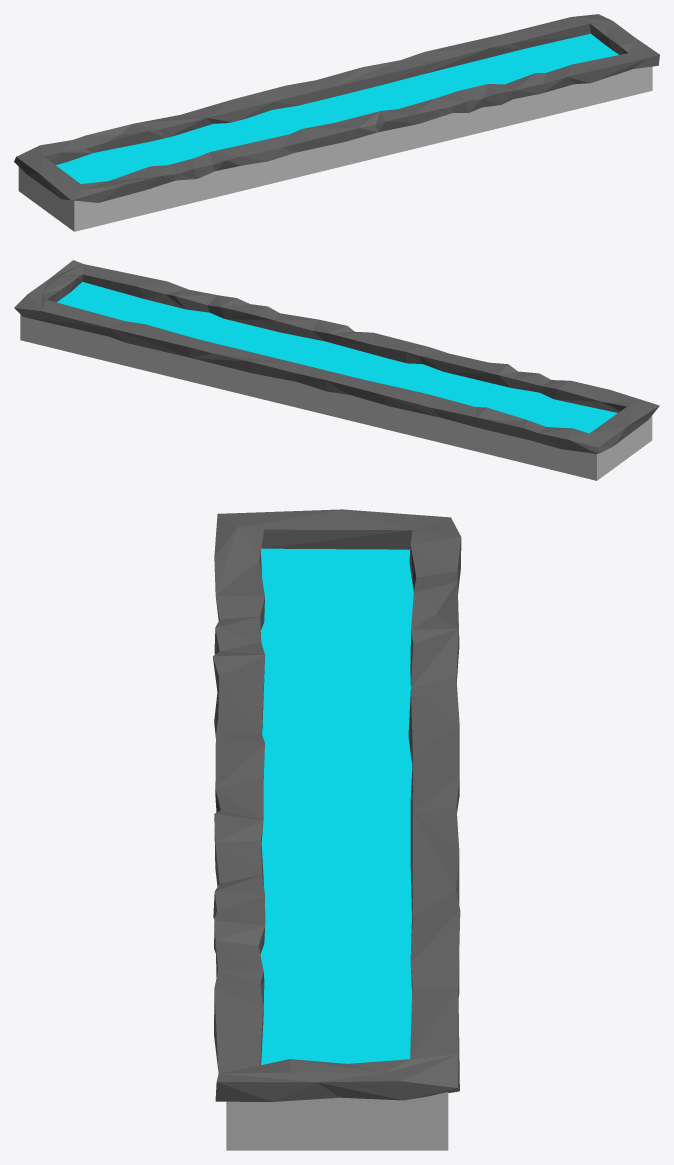
The model's file is street_pond_a.FBX.
3 views of the same model, one above another, from view 1: azimuth 30°, elevation 25°; view 2: azimuth 150°, elevation 25°; view 3: azimuth 270°, elevation 25° (orthographic). The views are drawn at different scales.
Visible parts, largest first — view 1: street_pond_a_LOD0; view 2: street_pond_a_LOD0; view 3: street_pond_a_LOD0.
Part boxes in pixels (left/top/right/bottom): street_pond_a_LOD0: left=14, top=14, right=659, bottom=231; street_pond_a_LOD0: left=14, top=260, right=659, bottom=480; street_pond_a_LOD0: left=213, top=509, right=461, bottom=1150.
Size of what is drawn, in the model's own units: 3053 by 189 by 560.
